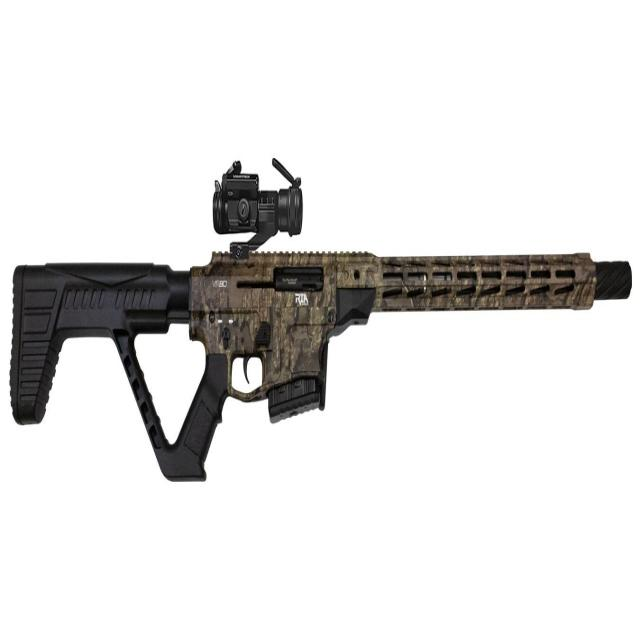Rifle: (9, 160, 634, 485)
